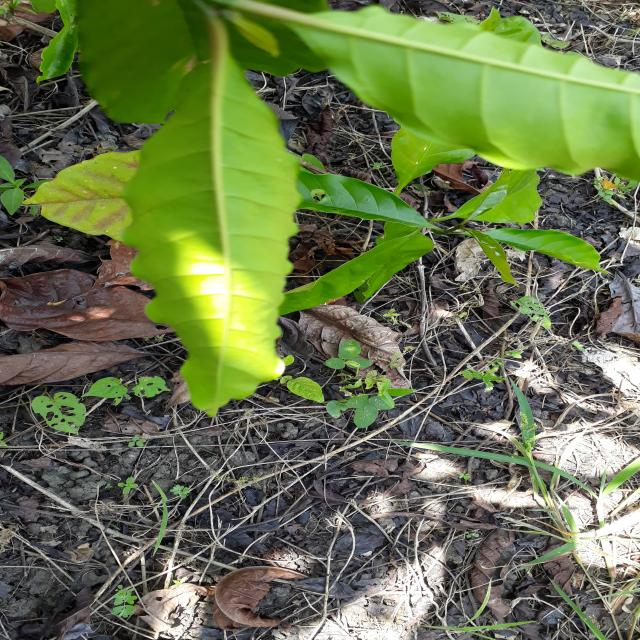Sanas: (121, 27, 302, 418)
